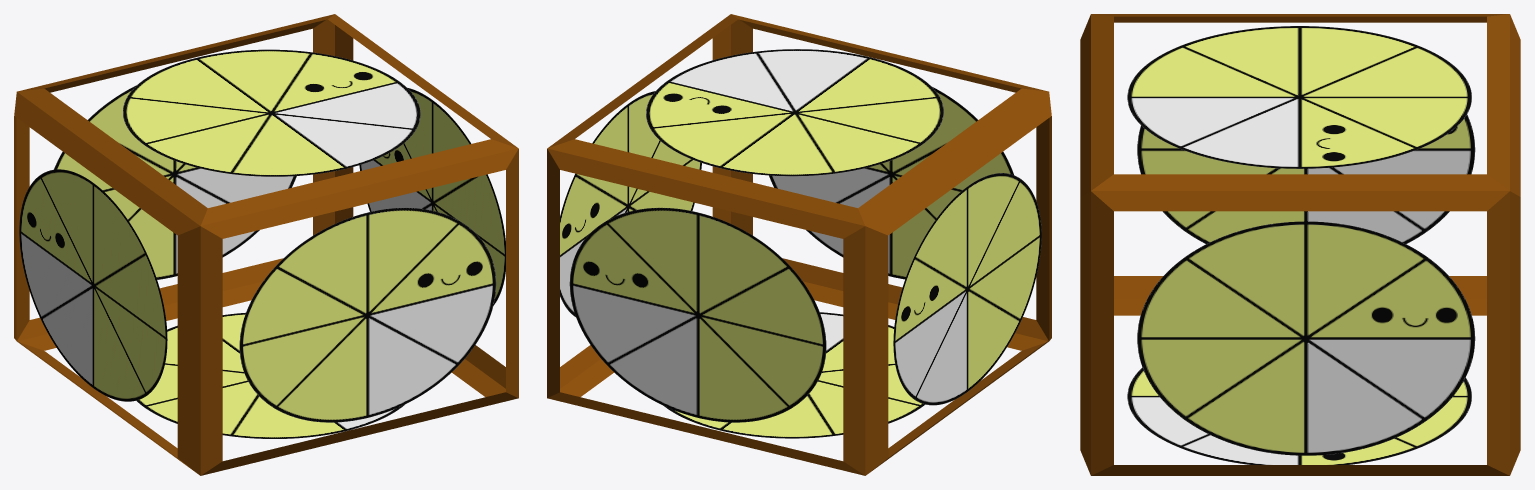
Rendered from Fracciones seis octavos.fbx.
The picture shows the model from 3 angles, left to right: view 1: azimuth 30°, elevation 25°; view 2: azimuth 150°, elevation 25°; view 3: azimuth 270°, elevation 25°; orthographic projection. The views are drawn at different scales.
Visible parts, largest first — view 1: 6/8; view 2: 6/8; view 3: 6/8.
Boxes of the visible parts, x1,y1,x2,y2 form: 6/8: (14,14,518,475); 6/8: (547,14,1051,475); 6/8: (1080,14,1520,475).
Bounding box in the file's own units: 213 × 158 × 210.
2 materials, 1 textured.
